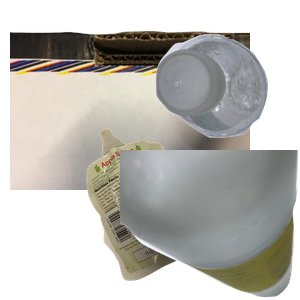cardboard: (10, 29, 250, 209)
glass: (120, 150, 300, 300)
plastic: (153, 31, 300, 161)
trash: (84, 126, 291, 300)
